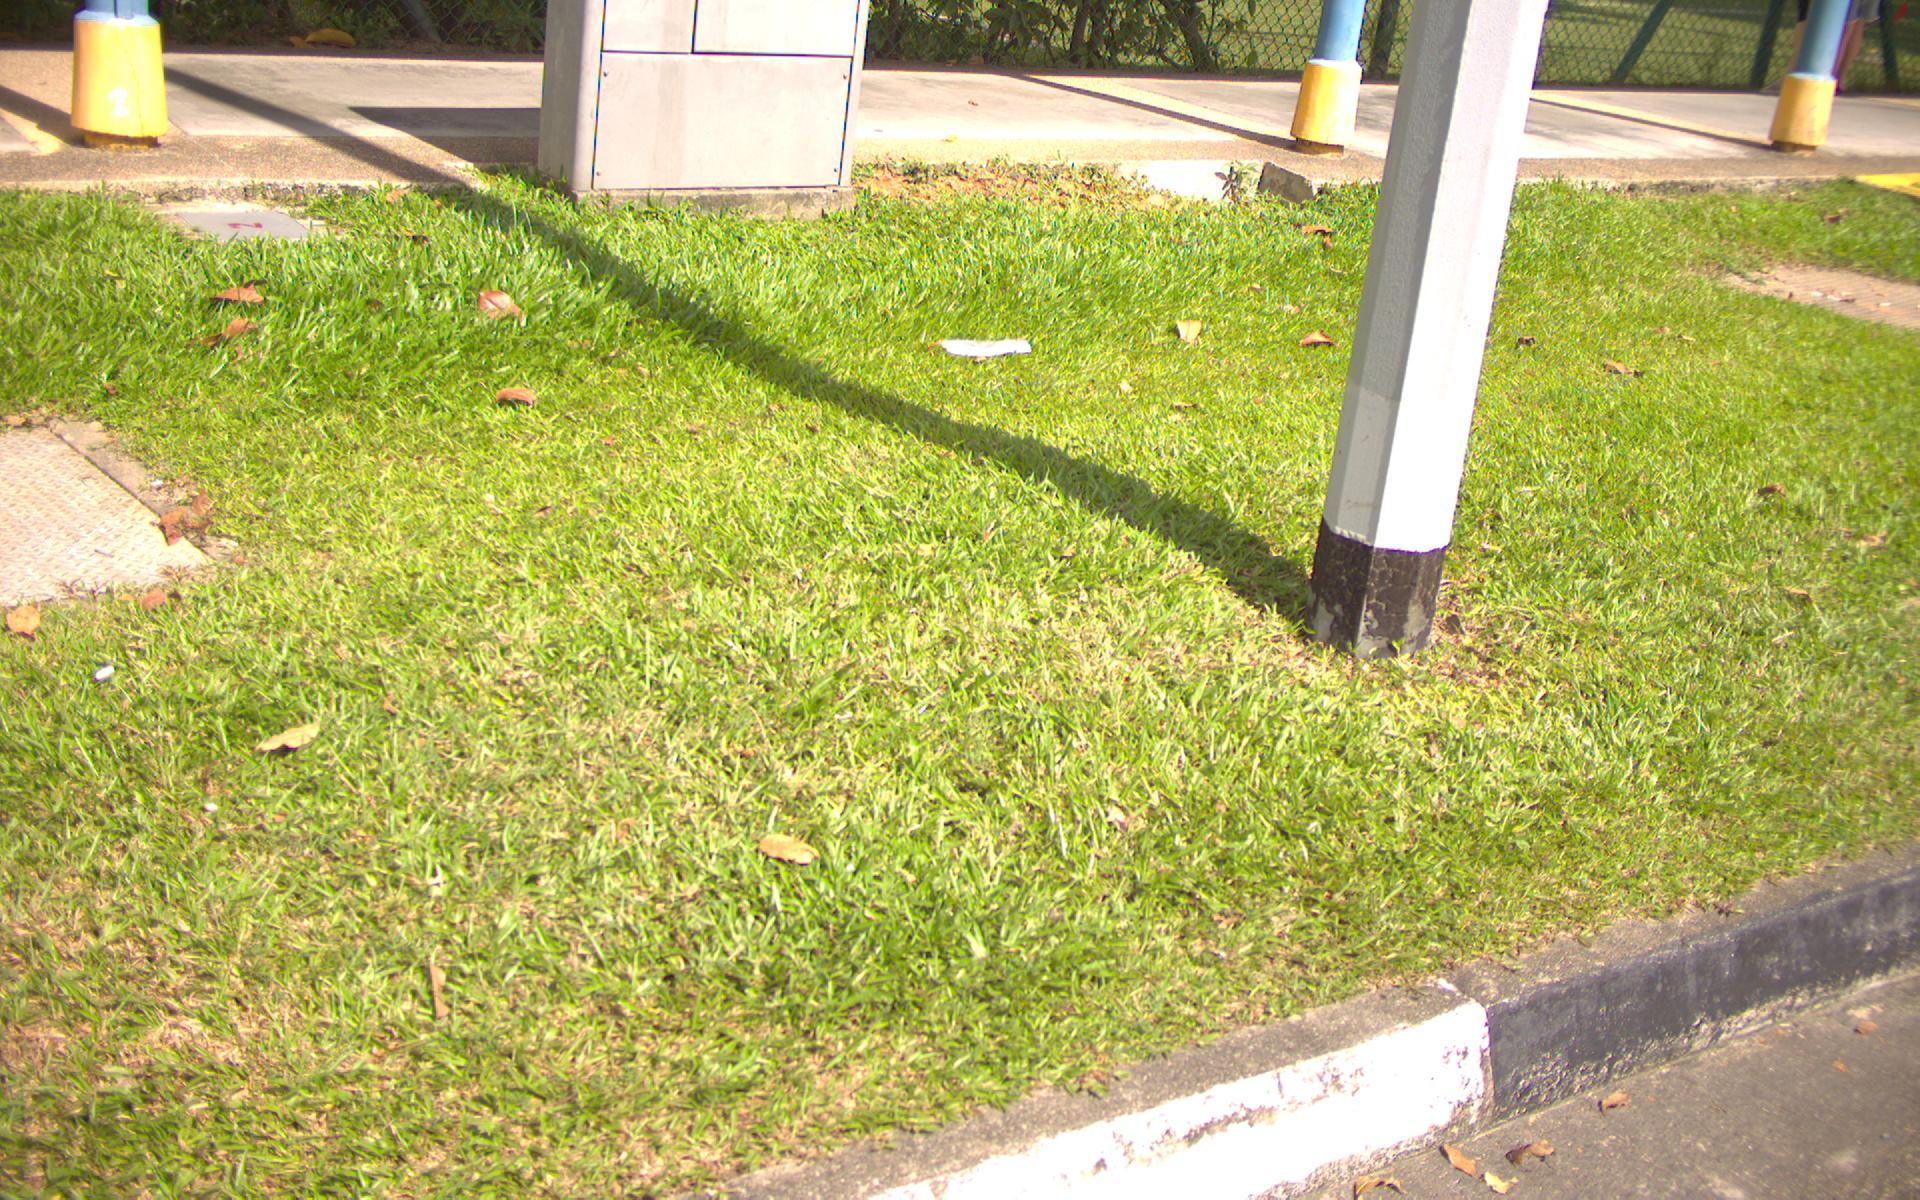pathway_low: (195, 62, 1914, 166)
road_turf_low: (15, 207, 1919, 845)
